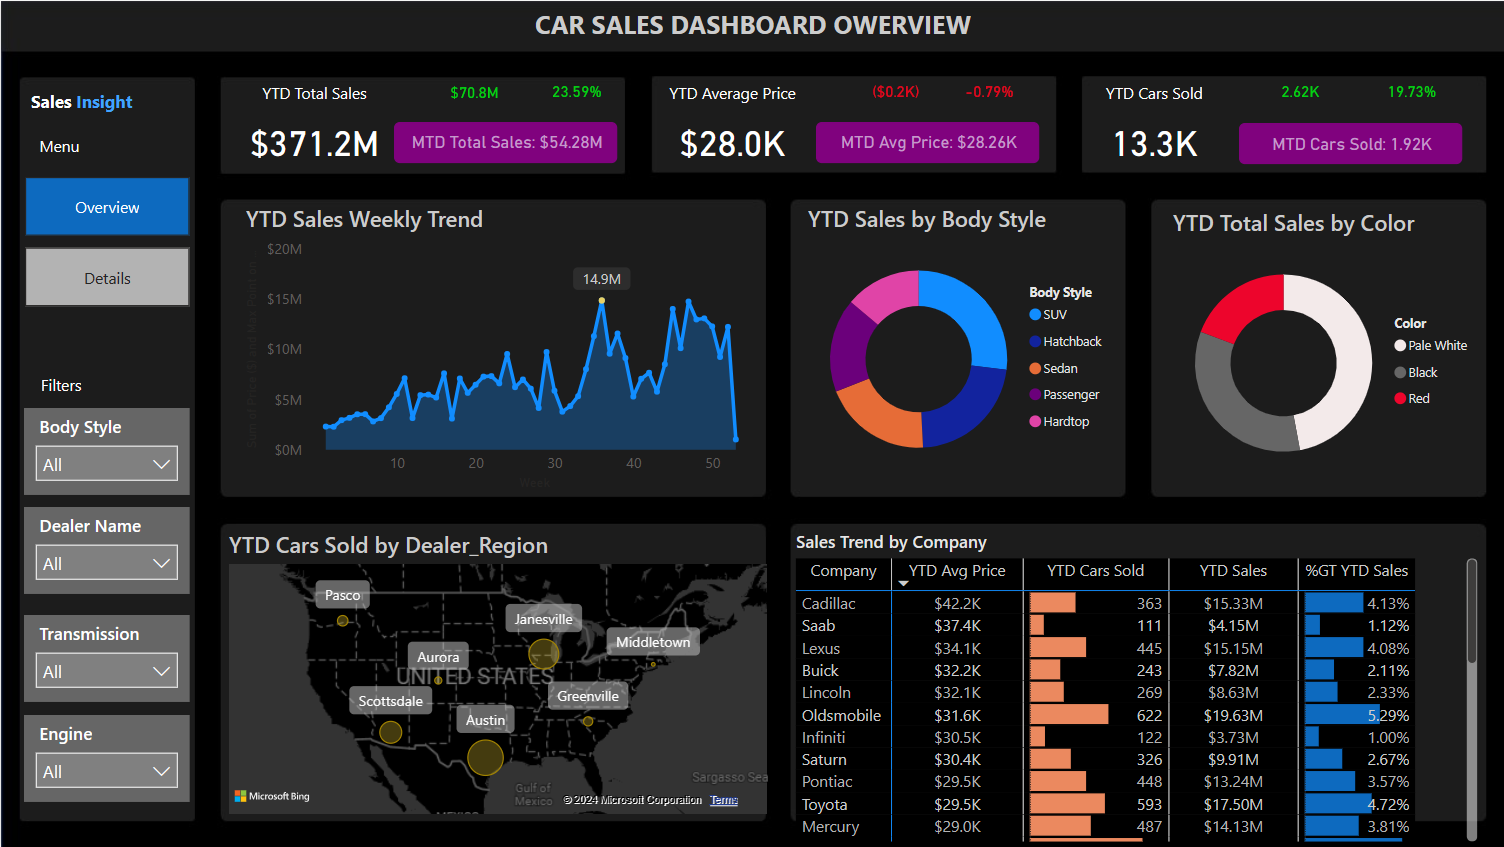

Layout of this report page (visuals, bound fields, positions):
{"tool":"powerbi","page":{"name":"Overview","canvas":[1280,720],"ordinal":0},"visuals":[{"type":"card","title":"YTD Total Sales","fields":{"Values":["car_data.YTD Sales"]},"box":[189.3,69.7,155.6,80.1],"z":0},{"type":"card","title":"YTD Total Sales","fields":{"Values":["car_data.Sales Difference"]},"box":[358.8,62.5,87.7,34.3],"z":1000},{"type":"card","title":"YTD Total Sales","fields":{"Values":["car_data.YoY Sales Growth"]},"box":[446.5,61.5,86.7,34.3],"z":2000},{"type":"card","fields":{"Values":["car_data.MTD KPI"]},"box":[334.5,103.4,190.5,34.8],"z":3000},{"type":"card","title":"YTD Average Price","fields":{"Values":["car_data.YTD Avg Price"]},"box":[562.4,69.5,119.9,80.6],"z":4000},{"type":"card","title":"YTD Total Sales","fields":{"Values":["car_data.Avg Price Diff"]},"box":[717.6,61.5,87.7,34.3],"z":5000},{"type":"card","title":"YTD Total Sales","fields":{"Values":["car_data.YoY Avg Price"]},"box":[797.2,61.5,86.7,34.3],"z":6000},{"type":"card","fields":{"Values":["car_data.MTD Avg KPI"]},"box":[693.4,103.4,190.5,34.8],"z":7000},{"type":"card","title":"YTD Cars Sold","fields":{"Values":["car_data.YTD Cars Sold"]},"box":[922.2,69.5,117.9,80.6],"z":8000},{"type":"card","title":"YTD Total Sales","fields":{"Values":["car_data.Cars Sold Difference"]},"box":[1062.3,62.5,87.7,33.3],"z":9000},{"type":"card","title":"YTD Total Sales","fields":{"Values":["car_data.YoY Cars Sold"]},"box":[1157,61.5,86.7,34.3],"z":10000},{"type":"card","fields":{"Values":["car_data.MTD Cars Sold KPI"]},"box":[1053.2,103.8,190.5,35.3],"z":11000},{"type":"areaChart","title":"YTD Sales Weekly Trend","fields":{"Category":["Calendar.Week"],"Y":["Sum(car_data.Price ($))","car_data.Max Point on Area Chart"]},"box":[203.3,171.9,443.7,248.6],"z":12000},{"type":"donutChart","fields":{"Category":["car_data.Body Style"],"Y":["car_data.YTD Sales"]},"box":[681.8,171.9,269.5,240.4],"z":13000},{"type":"donutChart","title":"YTD Total Sales by Color","fields":{"Y":["car_data.YTD Sales"],"Category":["car_data.Color"]},"box":[991.9,175.4,269.5,240.4],"z":14000},{"type":"map","fields":{"Category":["car_data.Dealer_Region"],"Size":["car_data.YTD Cars Sold"]},"box":[189.3,449.5,468.1,247.4],"z":15000},{"type":"pivotTable","title":"Sales Trend by Company","fields":{"Rows":["car_data.Company"],"Values":["car_data.YTD Avg Price","car_data.YTD Cars Sold","car_data.YTD Sales1","car_data.YTD Sales"]},"box":[671.4,449.5,590.1,270.6],"z":16000},{"type":"textbox","box":[404.2,0,471.6,45.3],"z":17000},{"type":"slicer","fields":{"Values":["car_data.Body Style"]},"box":[19.7,346.1,140.5,74.3],"z":18000},{"type":"slicer","fields":{"Values":["car_data.Dealer_Region"]},"box":[19.7,430.9,140.5,74.3],"z":19000},{"type":"slicer","fields":{"Values":["car_data.Transmission"]},"box":[19.7,522.7,140.5,74.3],"z":20000},{"type":"slicer","fields":{"Values":["car_data.Engine"]},"box":[19.7,607.5,140.5,74.3],"z":21000},{"type":"textbox","box":[20.2,69.5,150.2,32.3],"z":22000},{"type":"textbox","box":[20.2,109.9,58.5,32.3],"z":23000},{"type":"pageNavigator","box":[20.2,150.2,140.1,110.9],"z":24000},{"type":"textbox","box":[20.2,313.4,61.5,32.3],"z":25000}]}

Visuals, with their boxes on the page's 1280x720 design canvas (x1, y1, x2, y2). These are canvas units, not pixel positions in the 1504x847 screenshot, which may show the page scaled, cropped or inside an application window:
"YTD Total Sales" card: 189:70:345:150
"YTD Total Sales" card: 359:62:446:97
"YTD Total Sales" card: 446:62:533:96
card - car_data.MTD KPI: 334:103:525:138
"YTD Average Price" card: 562:70:682:150
"YTD Total Sales" card: 718:62:805:96
"YTD Total Sales" card: 797:62:884:96
card - car_data.MTD Avg KPI: 693:103:884:138
"YTD Cars Sold" card: 922:70:1040:150
"YTD Total Sales" card: 1062:62:1150:96
"YTD Total Sales" card: 1157:62:1244:96
card - car_data.MTD Cars Sold KPI: 1053:104:1244:139
"YTD Sales Weekly Trend" areaChart: 203:172:647:420
donutChart - car_data.Body Style x car_data.YTD Sales: 682:172:951:412
"YTD Total Sales by Color" donutChart: 992:175:1261:416
map - car_data.Dealer_Region x car_data.YTD Cars Sold: 189:450:657:697
"Sales Trend by Company" pivotTable: 671:450:1262:720
textbox: 404:0:876:45
slicer - car_data.Body Style: 20:346:160:420
slicer - car_data.Dealer_Region: 20:431:160:505
slicer - car_data.Transmission: 20:523:160:597
slicer - car_data.Engine: 20:608:160:682
textbox: 20:70:170:102
textbox: 20:110:79:142
pageNavigator: 20:150:160:261
textbox: 20:313:82:346
